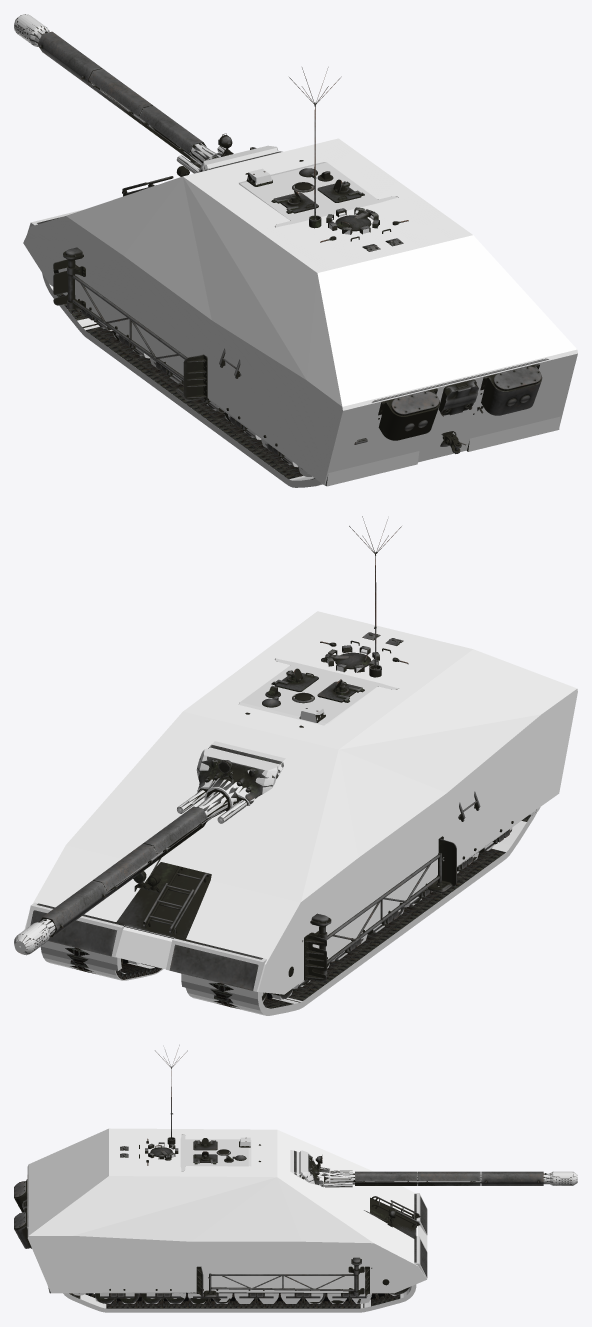
File: germany_tashenratte.glb
3 views of the same model, one above another, from view 1: azimuth 30°, elevation 25°; view 2: azimuth 150°, elevation 25°; view 3: azimuth 270°, elevation 25° (orthographic). The views are drawn at different scales.
Visible parts, largest first — view 1: tashen_hull_phys, hull_vis, gun01, turret01, trackL, tashen_armor_turret_60, tashen_screen_hull_65, tashen_module_tracks_40, tashen_gun_mask_60, chassis_RShape_split_0; view 2: tashen_hull_phys, hull_vis, gun01, tashen_module_tracks_40, turret01, trackL, tashen_armor_turret_60, tashen_gun_mask_60, tashen_screen_hull_65, trackR, tashen_armor_turret_80, chassis_RShape_split_0; view 3: tashen_hull_phys, hull_vis, gun01, tashen_module_tracks_40, trackR, turret01, tashen_armor_turret_60, tashen_gun_mask_60, chassis_RShape_split_0, tashen_screen_hull_65.
Boxes of the visible parts, x1,y1,x2,y2 form: tashen_hull_phys: [23, 138, 577, 485]; hull_vis: [37, 161, 546, 485]; gun01: [15, 14, 256, 173]; turret01: [205, 67, 408, 251]; trackL: [56, 293, 314, 479]; tashen_armor_turret_60: [240, 162, 380, 223]; tashen_screen_hull_65: [27, 223, 560, 486]; tashen_module_tracks_40: [42, 273, 322, 487]; tashen_gun_mask_60: [14, 14, 225, 173]; chassis_RShape_split_0: [81, 310, 296, 467]; tashen_hull_phys: [24, 611, 577, 994]; hull_vis: [30, 791, 536, 990]; gun01: [14, 756, 278, 955]; tashen_module_tracks_40: [40, 813, 536, 1015]; turret01: [208, 516, 408, 778]; trackL: [209, 815, 530, 1008]; tashen_armor_turret_60: [240, 662, 381, 723]; tashen_gun_mask_60: [14, 790, 246, 954]; tashen_screen_hull_65: [25, 807, 540, 991]; trackR: [65, 947, 161, 979]; tashen_armor_turret_80: [209, 702, 326, 765]; chassis_RShape_split_0: [295, 829, 511, 989]; tashen_hull_phys: [27, 1128, 427, 1293]; hull_vis: [14, 1175, 427, 1298]; gun01: [301, 1154, 577, 1187]; tashen_module_tracks_40: [63, 1284, 416, 1312]; trackR: [69, 1293, 400, 1308]; turret01: [120, 1045, 305, 1179]; tashen_armor_turret_60: [180, 1139, 248, 1165]; tashen_gun_mask_60: [324, 1170, 577, 1187]; chassis_RShape_split_0: [100, 1293, 366, 1298]; tashen_screen_hull_65: [48, 1193, 427, 1295].
Bounding box in the file's own units: 47 × 57.95 × 135.
5 materials, 3 textured.
